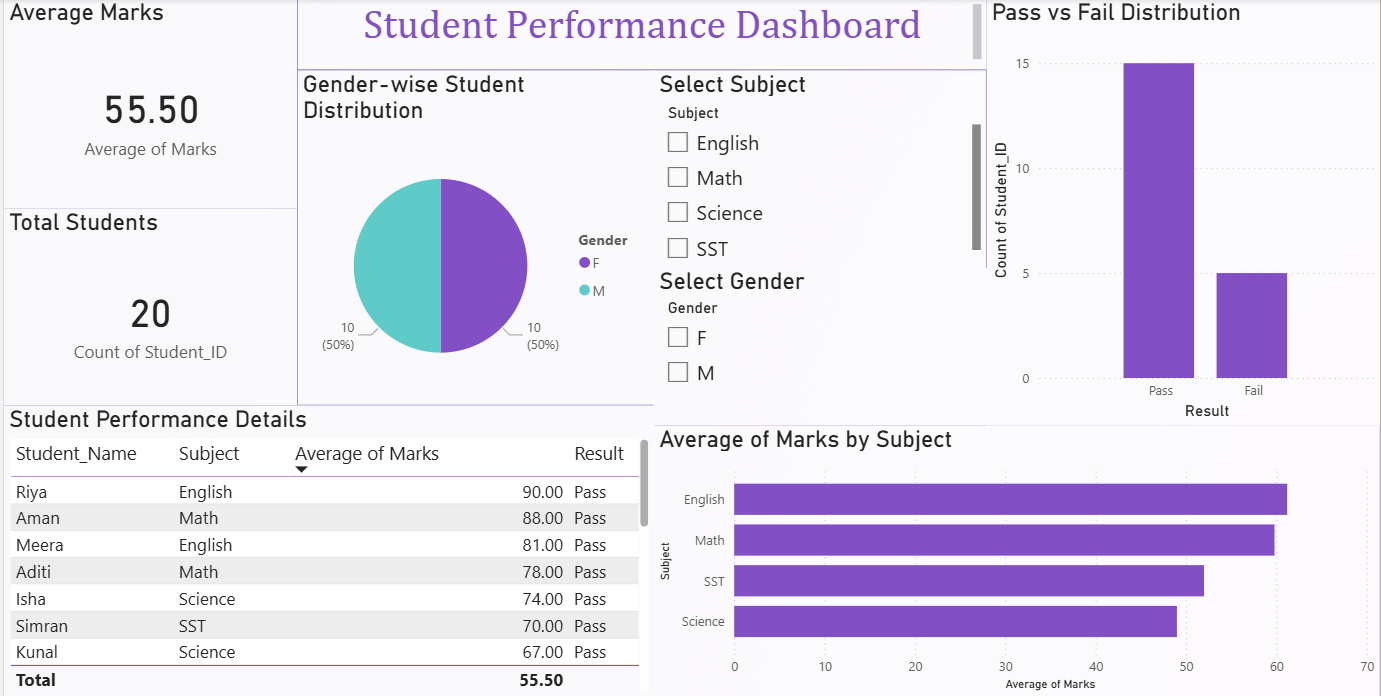

What the dashboard file says about the page in this screenshot:
{"tool":"powerbi","page":{"name":"Page 1","canvas":[1280,720],"ordinal":0},"visuals":[{"type":"card","title":"Average Marks","fields":{"Values":["student_performance_data.Marks"]},"box":[0,0,273.1,194.9],"z":0},{"type":"card","title":"Total Students","fields":{"Values":["student_performance_data.Student_ID"]},"box":[0,194.9,273.1,182.5],"z":1000},{"type":"clusteredBarChart","fields":{"Category":["student_performance_data.Subject"],"Y":["student_performance_data.Marks"]},"box":[605.1,396.6,675.1,252.5],"z":2000},{"type":"clusteredColumnChart","title":"Pass vs Fail Distribution","fields":{"Y":["student_performance_data.Student_ID"],"Category":["student_performance_data.Result"]},"box":[913.9,0,366.4,396.6],"z":3000},{"type":"pieChart","title":"Gender-wise Student Distribution","fields":{"Category":["student_performance_data.Gender"],"Y":["student_performance_data.Student_ID"]},"box":[273.1,65.9,332.1,311.5],"z":4000},{"type":"tableEx","title":"Student Performance Details","fields":{"Values":["student_performance_data.Student_Name","student_performance_data.Subject","student_performance_data.Marks","student_performance_data.Result"]},"box":[0,377.4,605.1,271.7],"z":5000},{"type":"slicer","title":"Select Subject ","fields":{"Values":["student_performance_data.Subject"]},"box":[605.1,65.9,308.7,183.9],"z":6000},{"type":"slicer","title":"Select Gender","fields":{"Values":["student_performance_data.Gender"]},"box":[606.5,249.7,308.7,146.8],"z":7000},{"type":"textbox","box":[273.1,0,640.8,65.9],"z":8000}]}

Visuals, with their boxes on the page's 1280x720 design canvas (x1, y1, x2, y2). These are canvas units, not pixel positions in the 1381x696 screenshot, which may show the page scaled, cropped or inside an application window:
"Average Marks" card: <region>0, 0, 273, 195</region>
"Total Students" card: <region>0, 195, 273, 377</region>
clusteredBarChart - student_performance_data.Subject x student_performance_data.Marks: <region>605, 397, 1280, 649</region>
"Pass vs Fail Distribution" clusteredColumnChart: <region>914, 0, 1280, 397</region>
"Gender-wise Student Distribution" pieChart: <region>273, 66, 605, 377</region>
"Student Performance Details" tableEx: <region>0, 377, 605, 649</region>
"Select Subject " slicer: <region>605, 66, 914, 250</region>
"Select Gender" slicer: <region>606, 250, 915, 396</region>
textbox: <region>273, 0, 914, 66</region>
